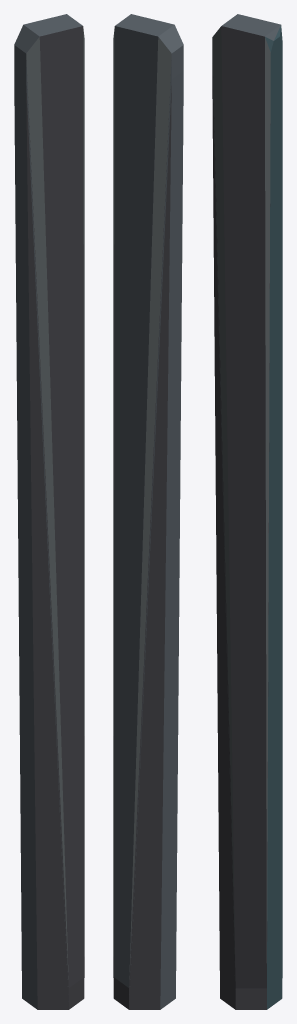
Rendered from GEN_MAST_PHO_T3_COLLISION.fbx.
3 views of the same model, side by side, from view 1: azimuth 30°, elevation 25°; view 2: azimuth 150°, elevation 25°; view 3: azimuth 330°, elevation 25° (orthographic).
Parts seen in each view (by area): view 1: UCX_SEN_GEN_MAST_PHO_T3_00; view 2: UCX_SEN_GEN_MAST_PHO_T3_00; view 3: UCX_SEN_GEN_MAST_PHO_T3_00.
Boxes of the visible parts, x1,y1,x2,y2 form: UCX_SEN_GEN_MAST_PHO_T3_00: (14,14,84,1009); UCX_SEN_GEN_MAST_PHO_T3_00: (113,14,183,1009); UCX_SEN_GEN_MAST_PHO_T3_00: (212,14,282,1009).
Size of the model in its own units: 0.62 by 0.572 by 9.84.
